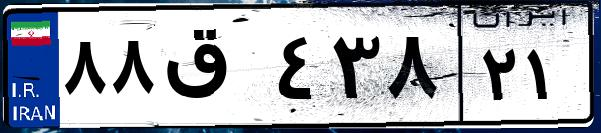1: (525, 38, 570, 115)
2: (475, 38, 525, 113)
3: (330, 28, 385, 110)
4: (270, 28, 330, 110)
8: (385, 28, 445, 110), (57, 26, 110, 100), (110, 28, 158, 98)
ق: (158, 20, 270, 120)
